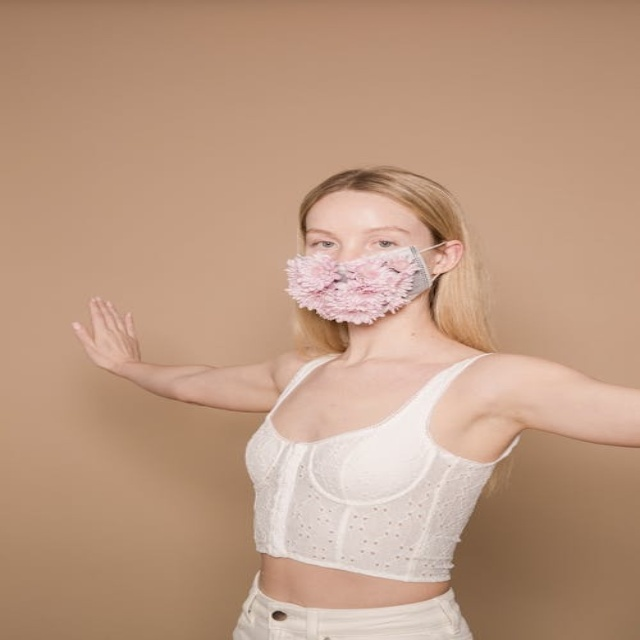Mascara: (284, 245, 434, 325)
Sin_gafas: (302, 224, 401, 253)
Sin_guantes: (72, 296, 141, 372)
